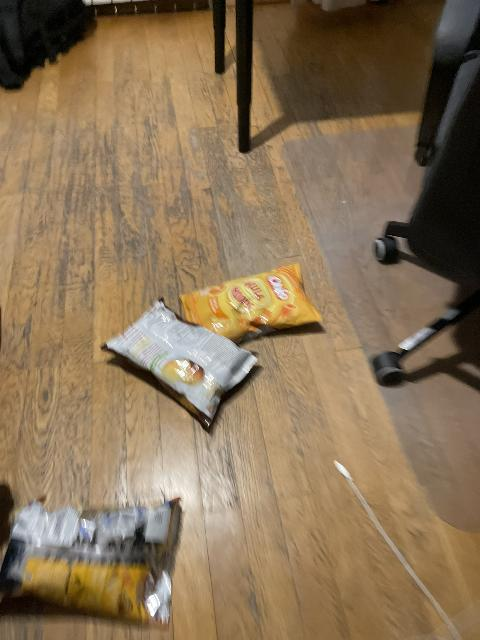Chio Cascaval 125g: (0, 495, 181, 623)
Chio Hula Hoops Cheese 70g: (181, 263, 323, 341)
Lays Beef Grilled Ribs 125g: (104, 297, 258, 428)
